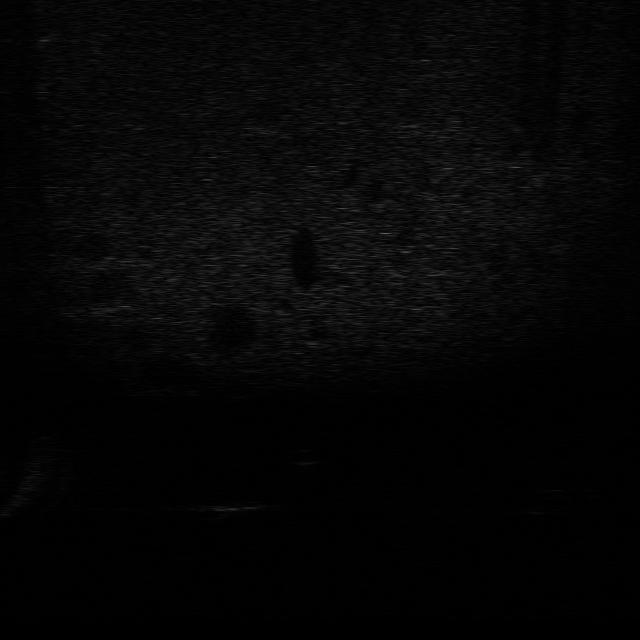ball: (282, 443, 328, 468)
square cage: (194, 493, 270, 525)
tyre: (518, 484, 572, 518)
